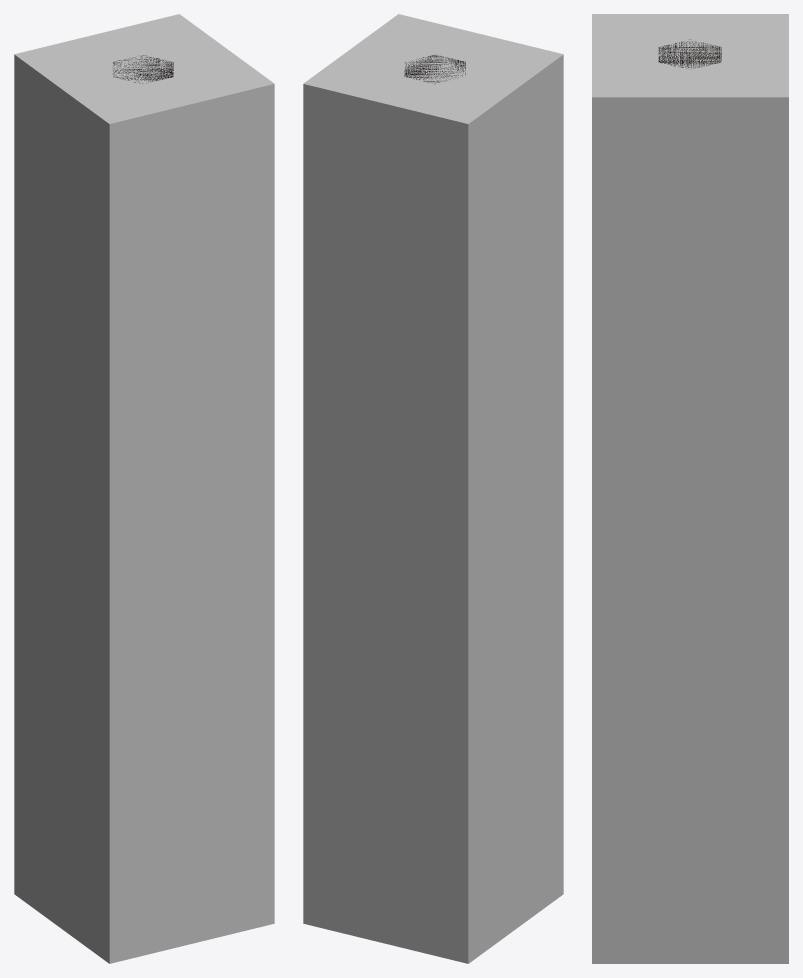
File: torch.DAE
The picture shows the model from 3 angles, left to right: view 1: azimuth 30°, elevation 25°; view 2: azimuth 150°, elevation 25°; view 3: azimuth 270°, elevation 25°; orthographic projection. The views are drawn at different scales.
Visible parts, largest first — view 1: bounds, torch100; view 2: bounds, torch100; view 3: bounds, torch100.
Boxes of the visible parts, x1=… form: bounds: x1=14, y1=14, x2=274, y2=963; torch100: x1=113, y1=55, x2=173, y2=83; bounds: x1=303, y1=14, x2=563, y2=963; torch100: x1=404, y1=54, x2=465, y2=83; bounds: x1=592, y1=14, x2=788, y2=963; torch100: x1=658, y1=39, x2=721, y2=69.
Bounding box in the file's own units: 1.32 × 1.32 × 6.43.
